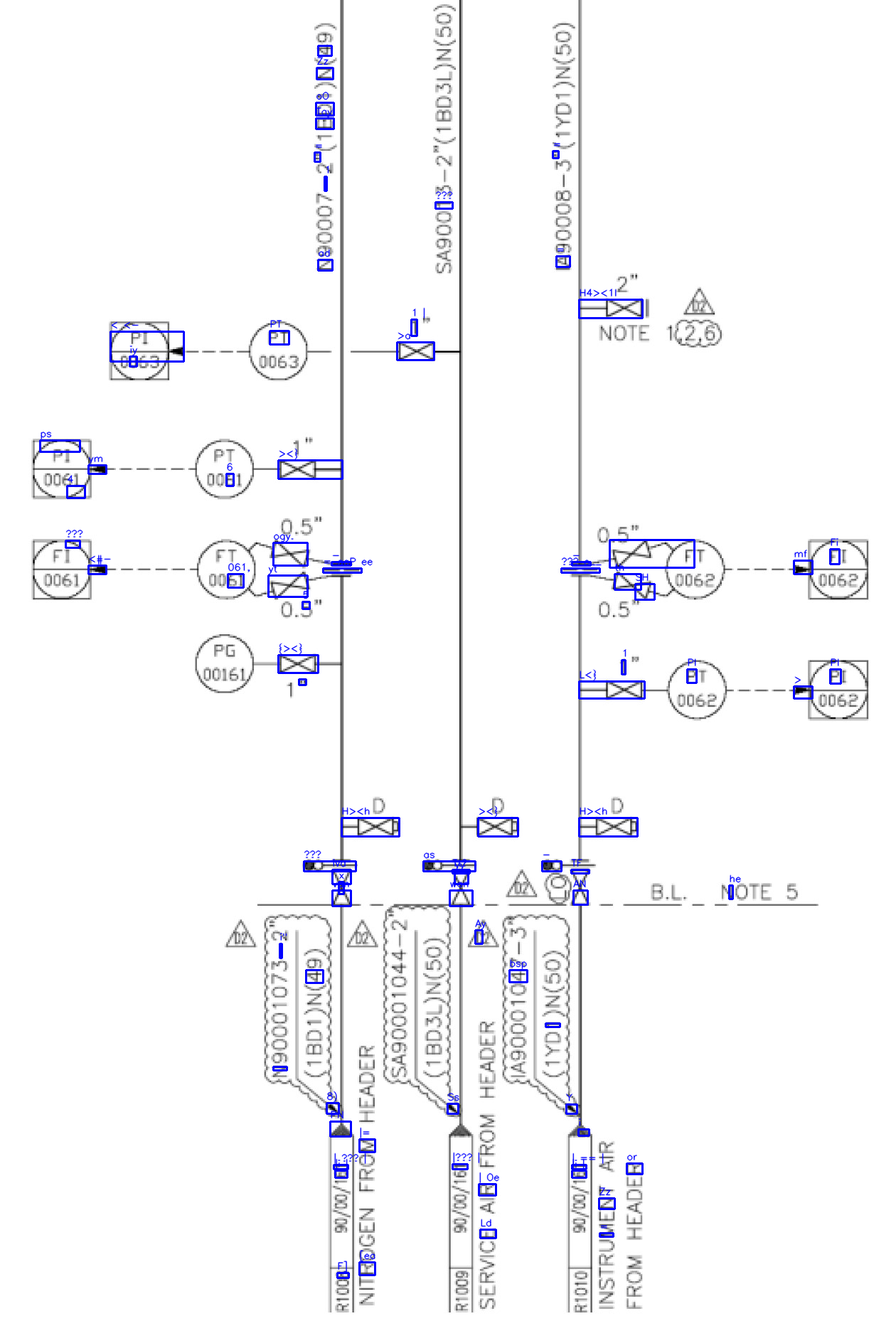Instrumento: (107, 319, 173, 382), (664, 538, 727, 603), (193, 538, 257, 601), (807, 659, 869, 723), (246, 321, 312, 380), (194, 436, 256, 498), (666, 660, 729, 721), (33, 538, 95, 599), (806, 539, 868, 599), (30, 439, 92, 498)
Outro: (325, 1121, 362, 1317), (444, 1117, 479, 1317), (565, 1116, 598, 1315), (192, 632, 256, 693)
Válvula: (321, 856, 362, 911), (442, 857, 480, 907), (565, 855, 598, 909), (268, 569, 319, 599), (609, 539, 657, 569), (268, 535, 312, 567), (391, 336, 439, 365), (612, 571, 655, 601), (599, 677, 649, 702), (602, 296, 651, 321), (592, 814, 643, 838), (351, 813, 403, 836), (471, 817, 525, 838), (274, 457, 319, 480), (276, 651, 317, 675)
